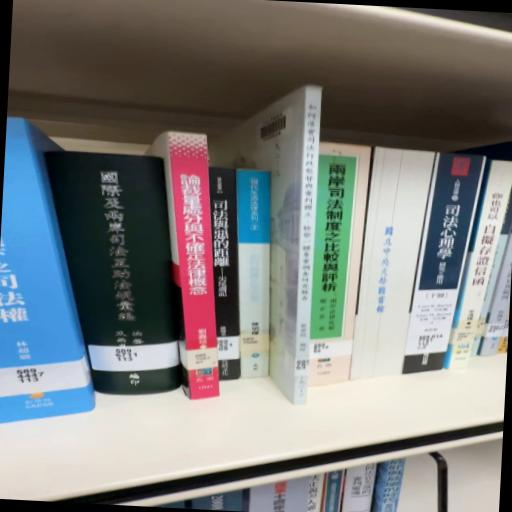backward: (351, 148, 438, 381)
book: (33, 152, 196, 404), (138, 129, 240, 403), (403, 154, 489, 383), (308, 144, 374, 345), (225, 166, 279, 388)
